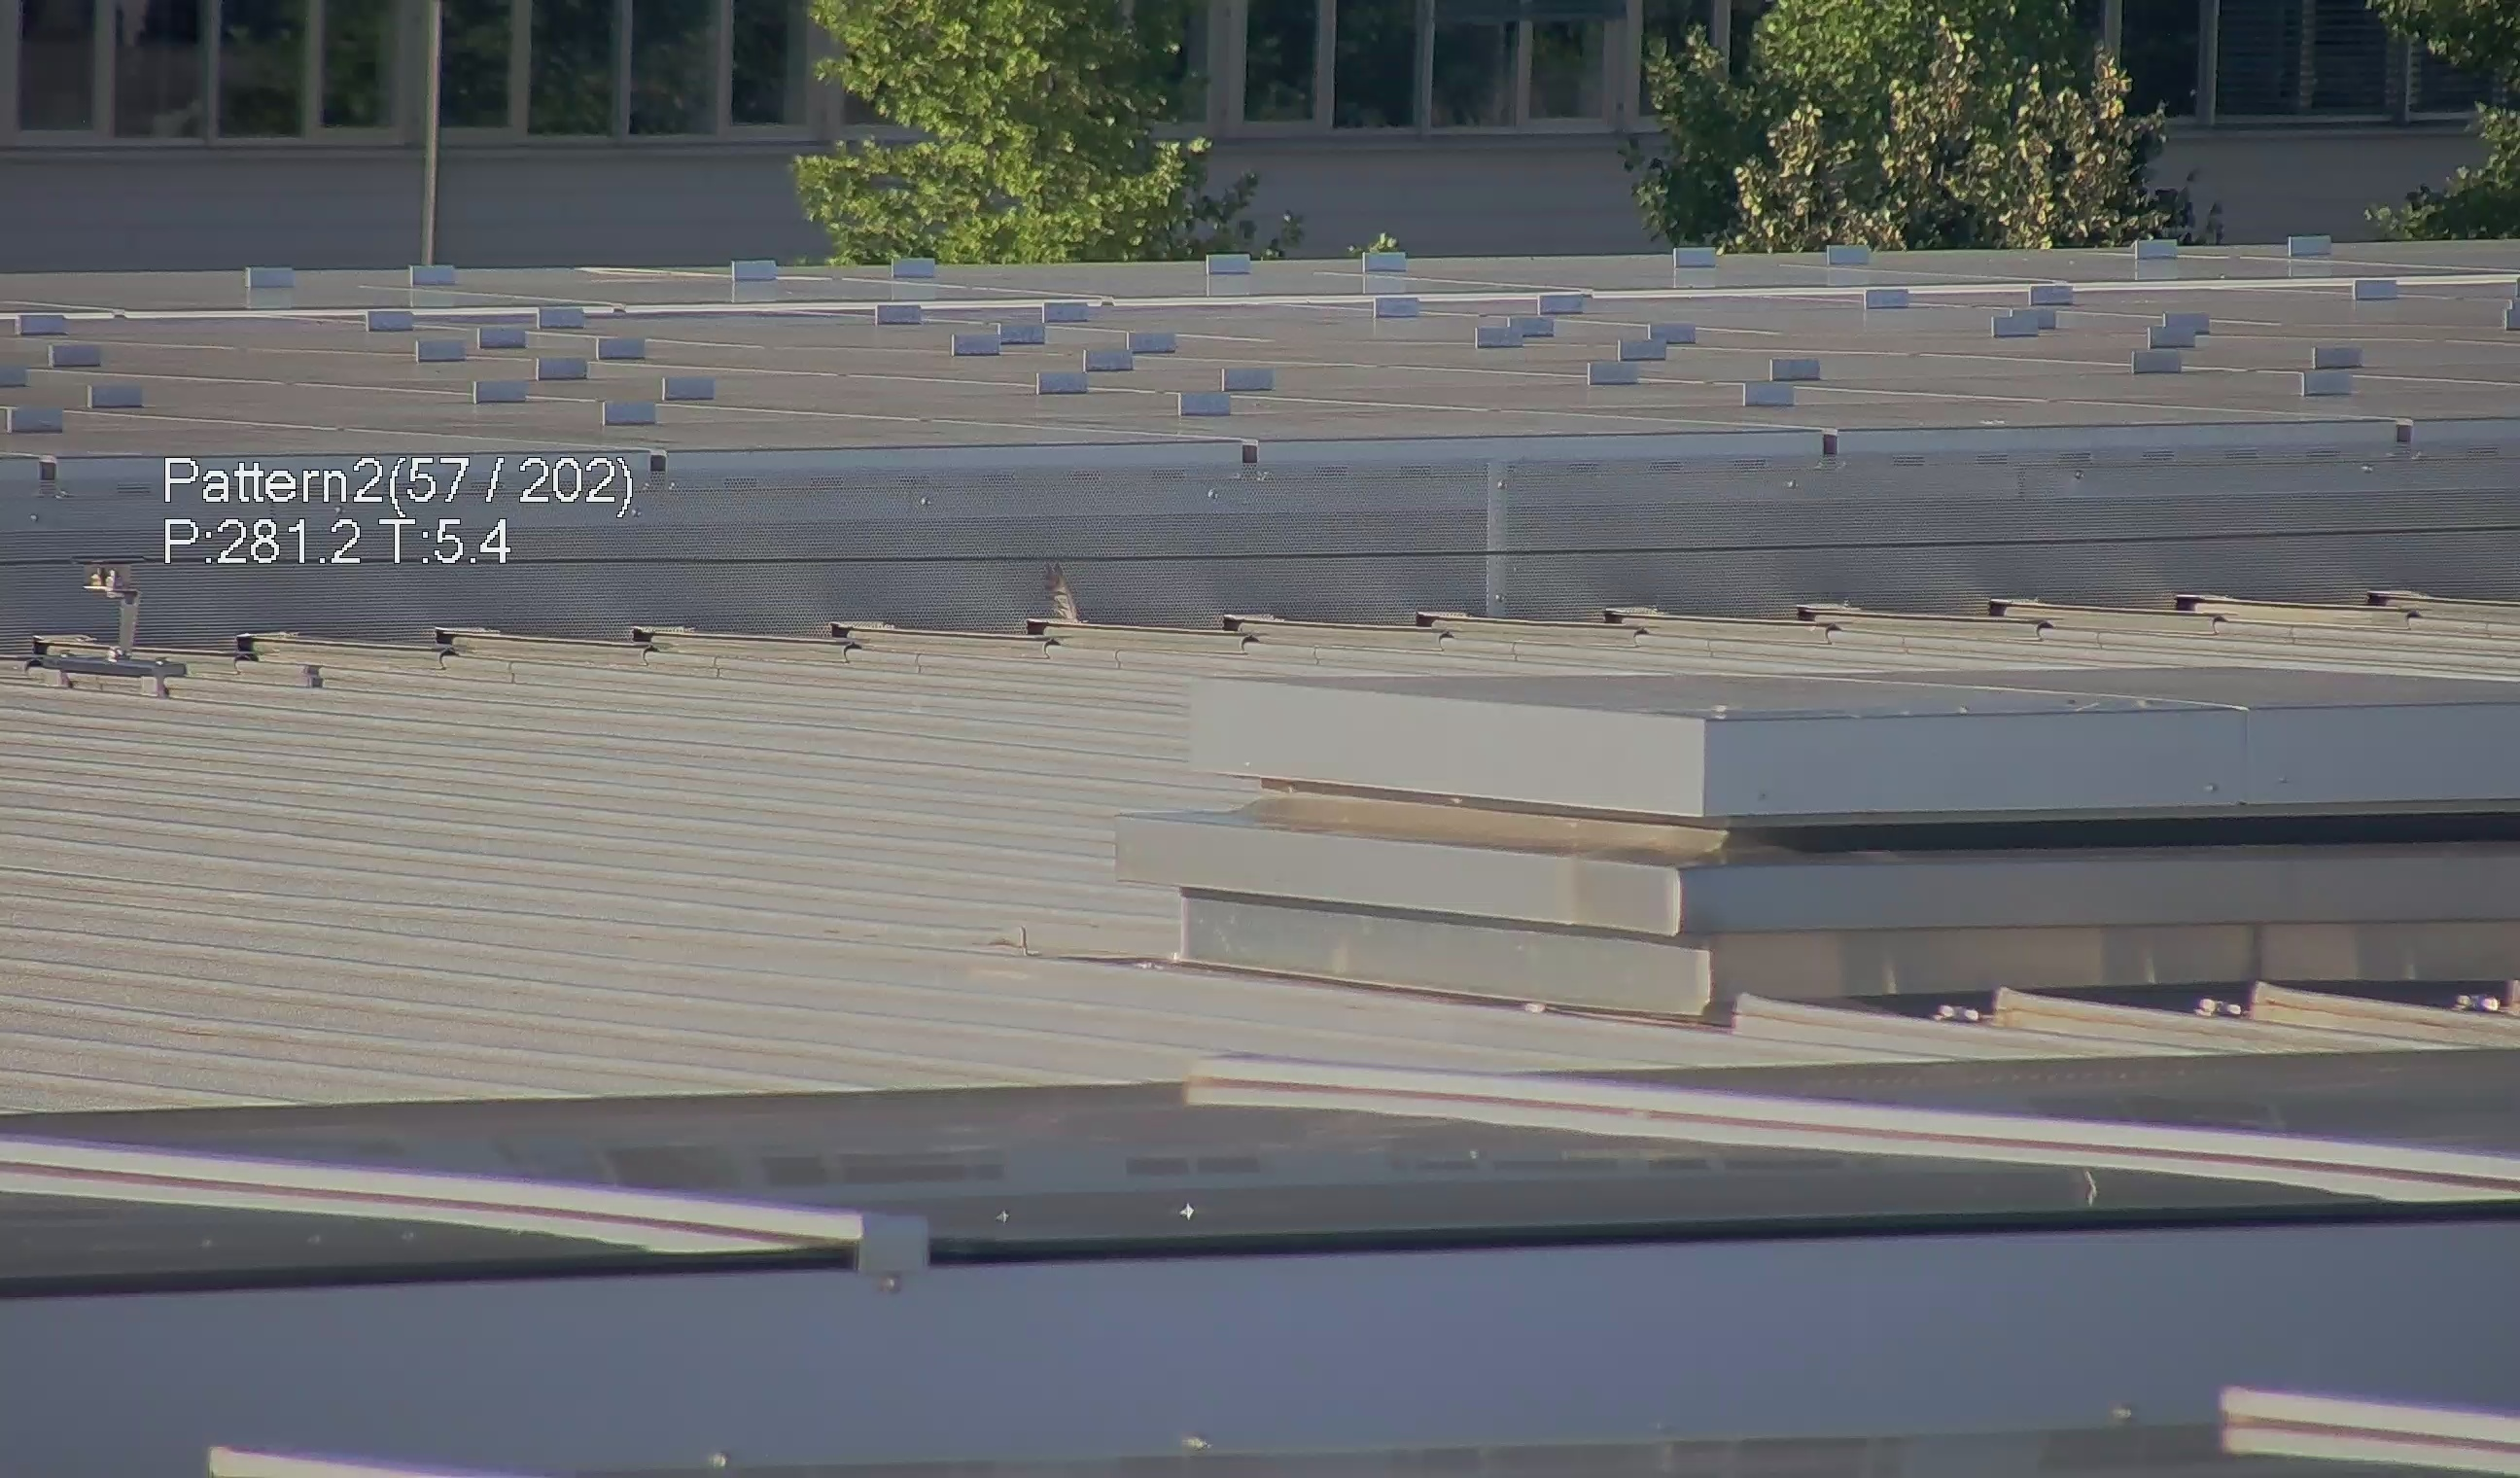Other: (1016, 547, 1090, 649)
